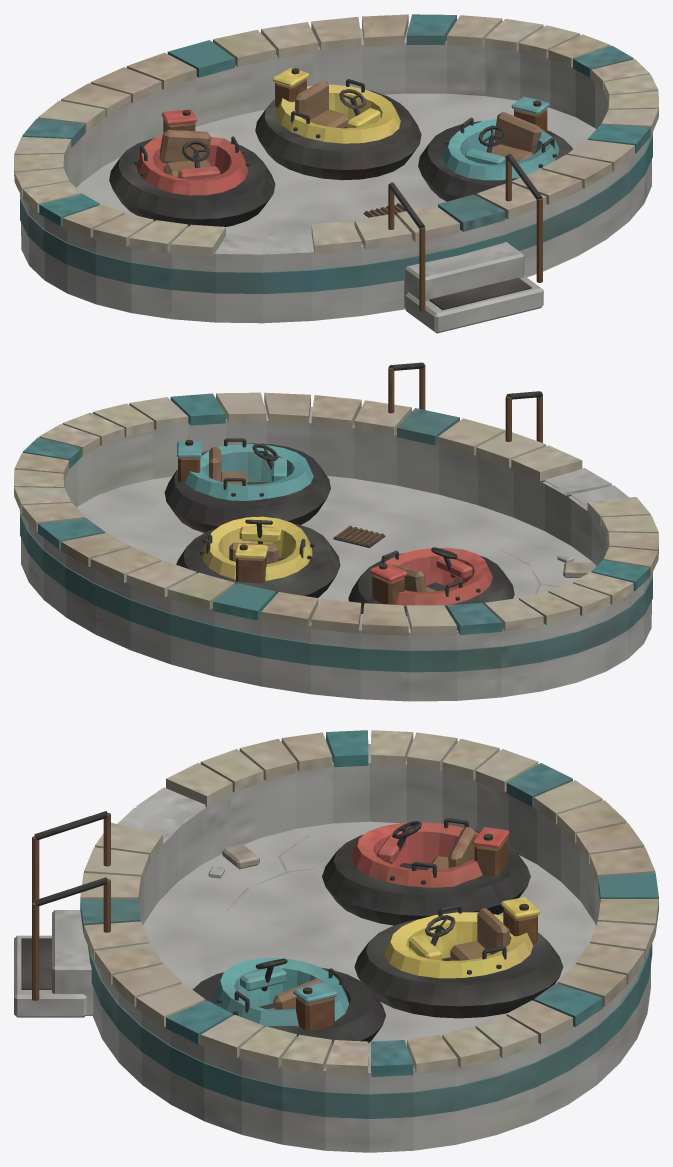
The model's file is CE07_bumper_boats_pool.glb.
3 renders of one model, top to bottom at view 1: azimuth 30°, elevation 25°; view 2: azimuth 150°, elevation 25°; view 3: azimuth 270°, elevation 25°, orthographic. The views are drawn at different scales.
Parts seen in each view (by area): view 1: Dry oval basin slab; view 2: Dry oval basin slab; view 3: Dry oval basin slab.
Boxes of the visible parts, left/top/right/bottom form: Dry oval basin slab: left=14, top=14, right=658, bottom=333; Dry oval basin slab: left=14, top=362, right=658, bottom=701; Dry oval basin slab: left=14, top=730, right=658, bottom=1152.
Bounding box in the file's own units: 6 × 1.2 × 4.87.
12 materials, 12 textured.
